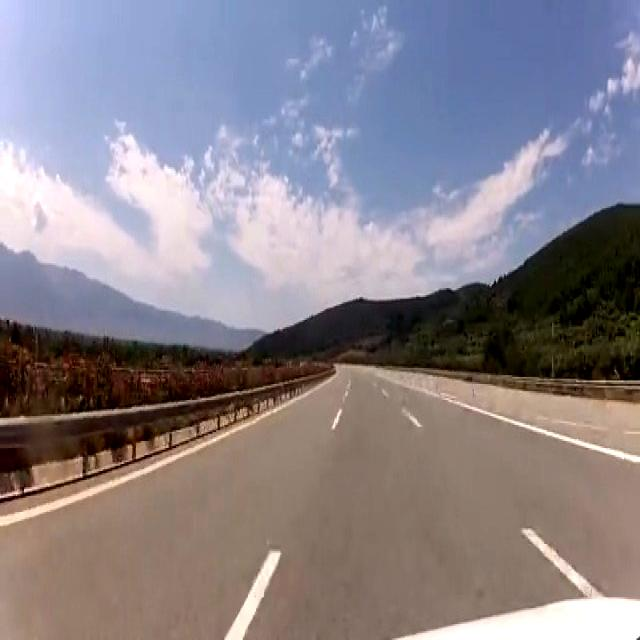lane: (0, 419, 260, 527), (521, 529, 601, 598), (225, 549, 281, 638)
road: (0, 364, 639, 636)
